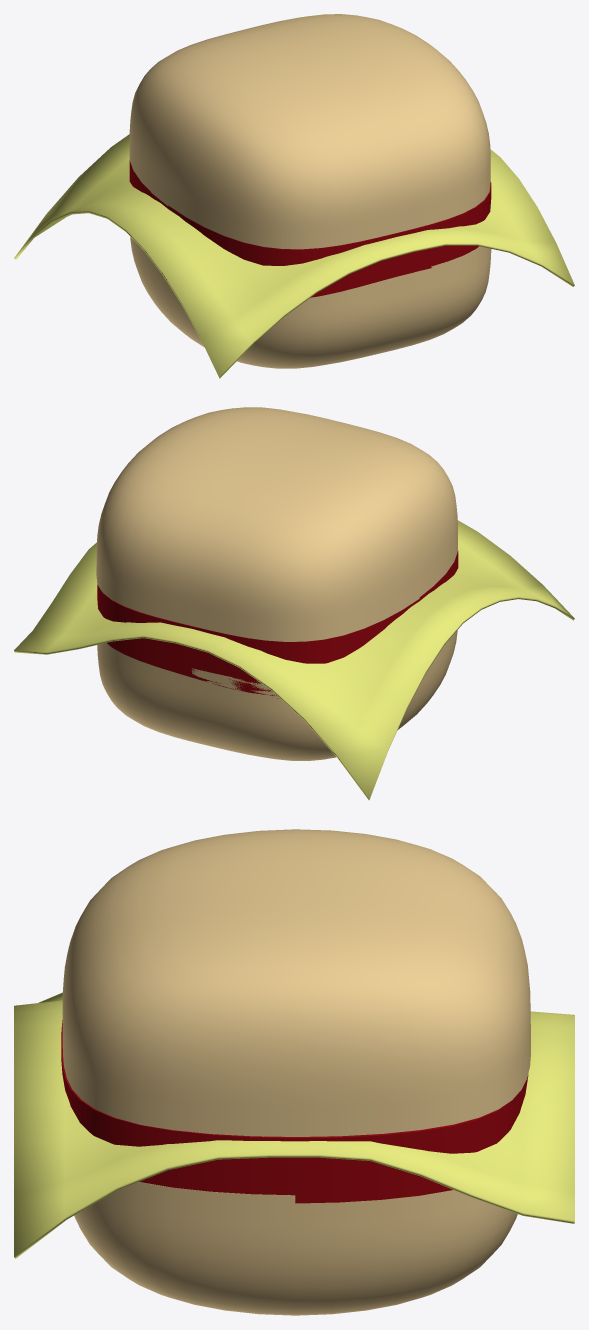
File: hanburger.glb
The picture shows the model from 3 angles, top to bottom: view 1: azimuth 30°, elevation 25°; view 2: azimuth 150°, elevation 25°; view 3: azimuth 270°, elevation 25°; orthographic projection. The views are drawn at different scales.
Parts seen in each view (by area): view 1: Cube, Plane, Cube.001, Cube.002; view 2: Cube, Plane, Cube.001, Cube.002; view 3: Cube, Cube.001, Plane, Cube.002.
Part boxes in pixels (x1=…): Cube: x1=129, y1=14, x2=490, y2=249; Plane: x1=14, y1=134, x2=574, y2=378; Cube.001: x1=130, y1=237, x2=491, y2=368; Cube.002: x1=129, y1=160, x2=491, y2=297; Cube: x1=96, y1=407, x2=457, y2=641; Plane: x1=14, y1=520, x2=574, y2=800; Cube.001: x1=97, y1=630, x2=457, y2=760; Cube.002: x1=97, y1=551, x2=458, y2=698; Cube: x1=62, y1=829, x2=530, y2=1136; Cube.001: x1=74, y1=1182, x2=517, y2=1315; Plane: x1=14, y1=992, x2=574, y2=1258; Cube.002: x1=61, y1=1020, x2=528, y2=1203.
Size of the model in its own units: 12 by 8.84 by 12.
